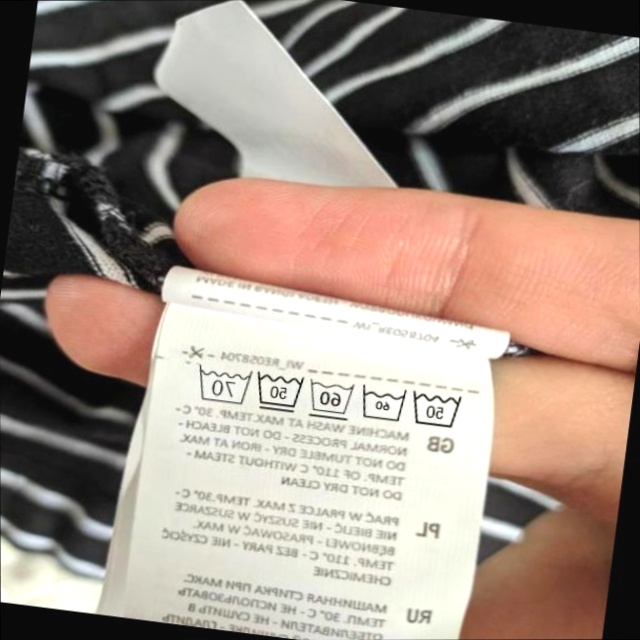50C: (406, 383, 463, 433), (250, 368, 304, 415)
60C: (303, 376, 357, 422), (355, 382, 408, 424)
70C: (190, 362, 252, 411)
